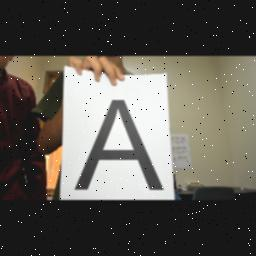a: (70, 94, 168, 196)
